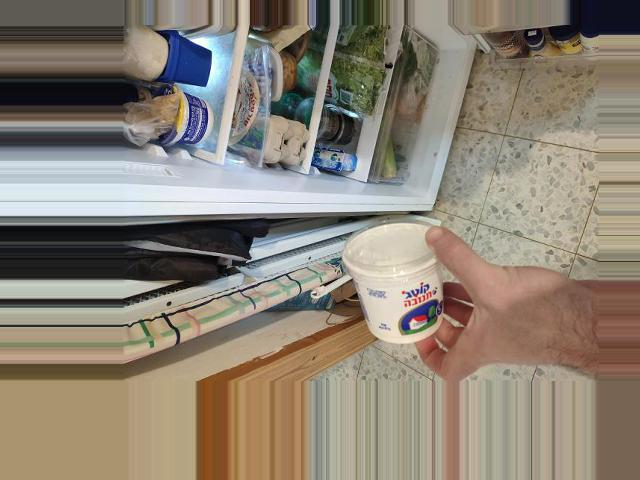cotage: (345, 225, 454, 348)
